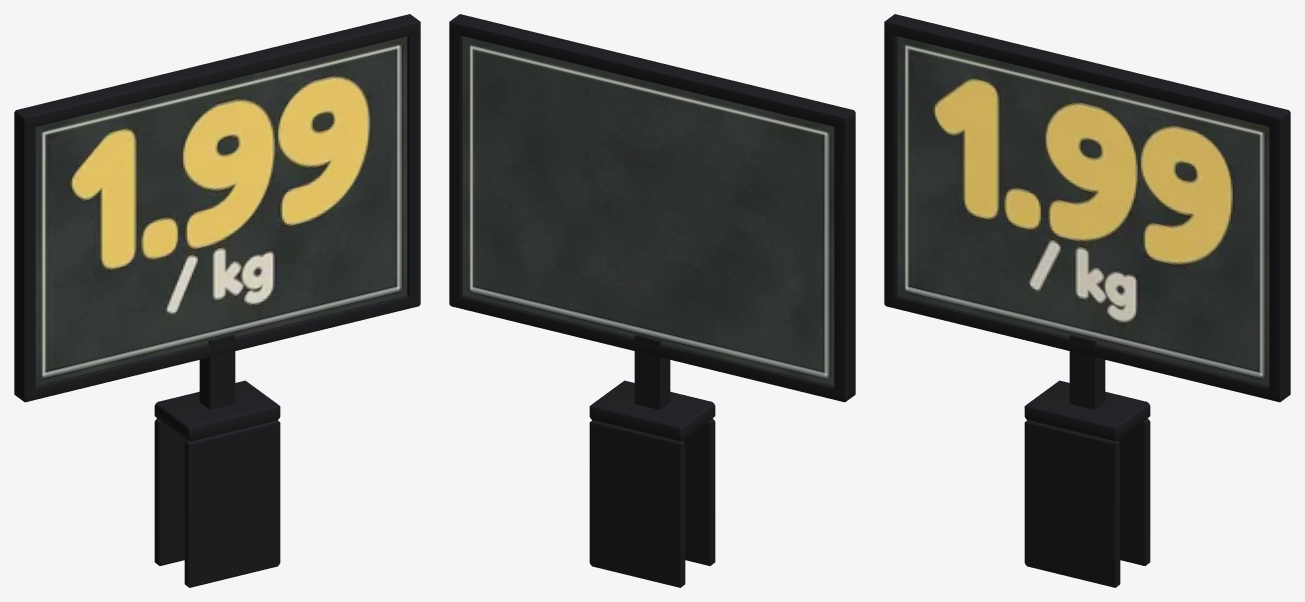
The model's file is vuena-sk-sign-crate-price-clip.glb.
The picture shows the model from 3 angles, left to right: view 1: azimuth 30°, elevation 25°; view 2: azimuth 150°, elevation 25°; view 3: azimuth 330°, elevation 25°; orthographic projection.
Visible parts, largest first — view 1: sk_sign_crate_price_clip; view 2: sk_sign_crate_price_clip; view 3: sk_sign_crate_price_clip.
Boxes of the visible parts, x1,y1,x2,y2 form: sk_sign_crate_price_clip: [14, 14, 420, 587]; sk_sign_crate_price_clip: [449, 14, 855, 587]; sk_sign_crate_price_clip: [884, 14, 1290, 587].
Bounding box in the file's own units: 0.128 × 0.154 × 0.0196.
2 materials, 1 textured.
